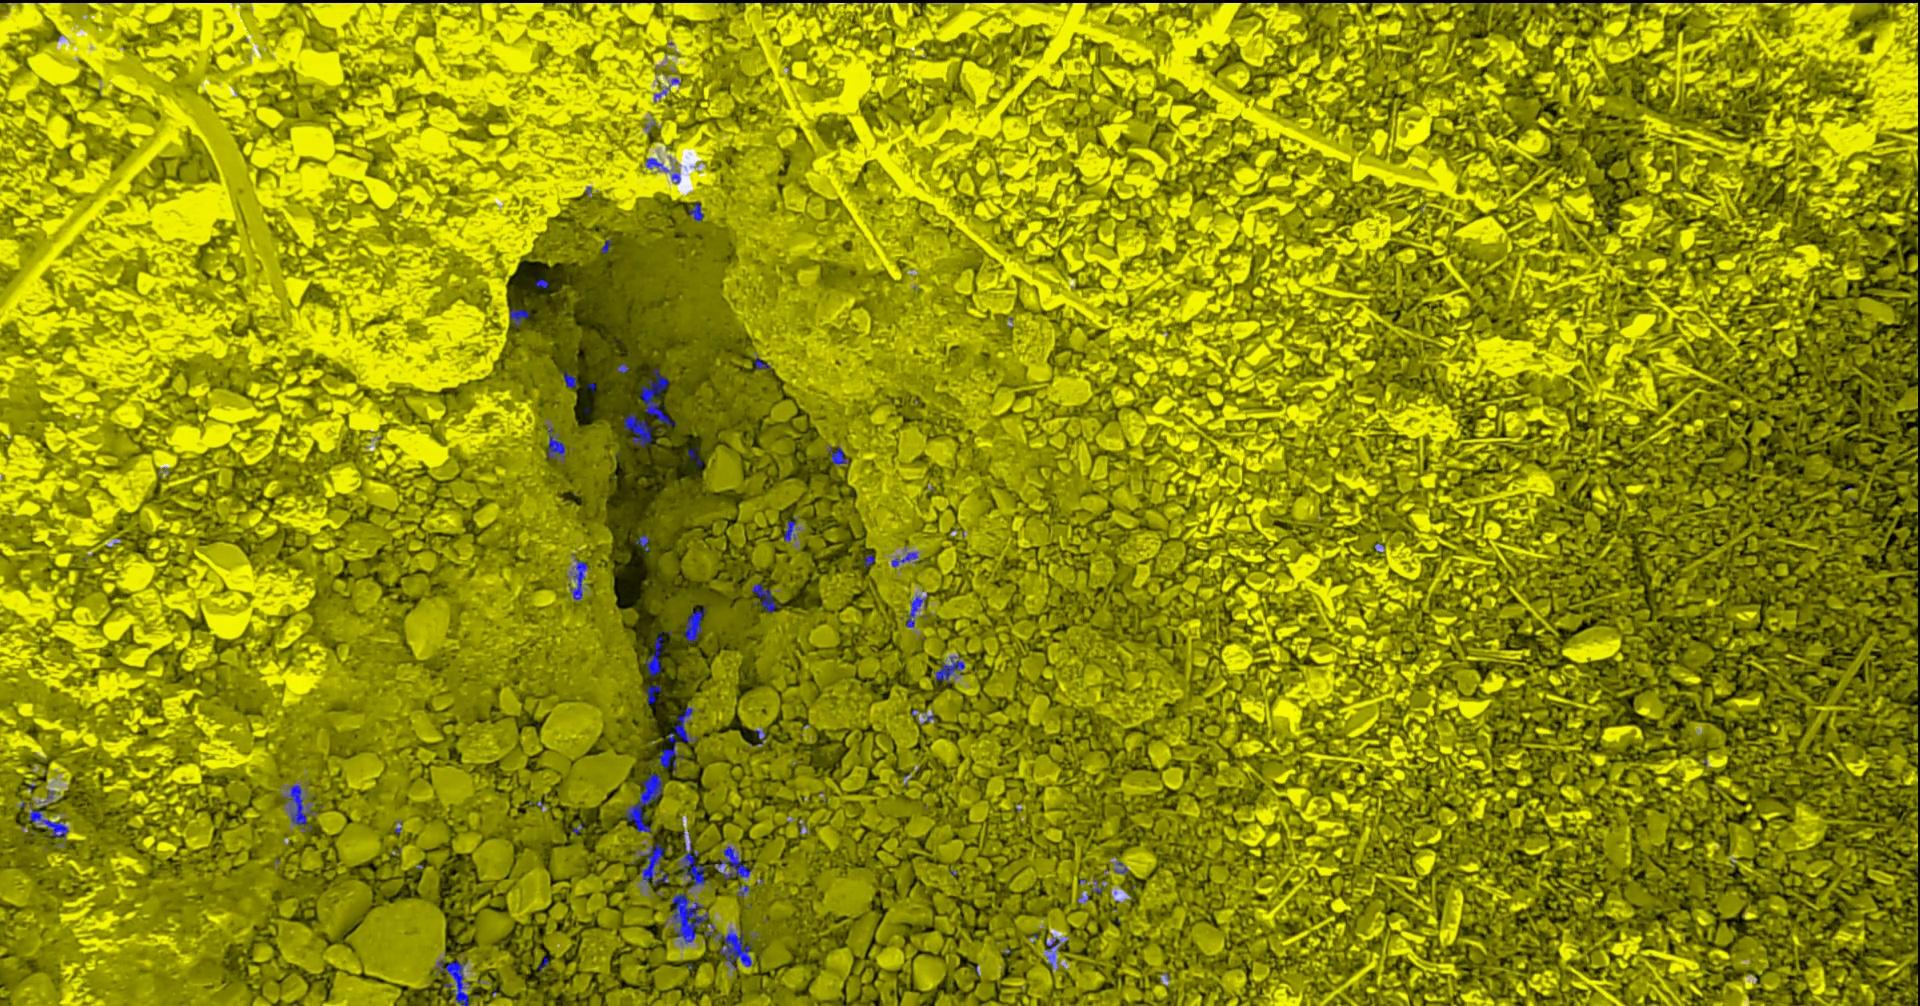ant: (658, 706, 697, 771), (625, 772, 663, 832), (640, 367, 676, 426), (670, 892, 709, 942), (712, 929, 757, 969), (677, 837, 709, 889), (282, 784, 317, 829), (436, 959, 469, 1005), (28, 805, 69, 840), (715, 845, 750, 878), (640, 842, 668, 884), (622, 413, 657, 446), (935, 653, 964, 683), (644, 631, 663, 677), (750, 582, 778, 611), (570, 558, 587, 600), (546, 427, 565, 462), (684, 608, 705, 641), (905, 594, 924, 627), (827, 445, 850, 464), (509, 307, 530, 326), (891, 551, 917, 567), (782, 517, 799, 540), (687, 201, 703, 221), (645, 158, 668, 171), (687, 447, 703, 465), (646, 683, 660, 702), (634, 535, 649, 551), (563, 370, 577, 387), (754, 356, 770, 370), (1114, 861, 1128, 873)
